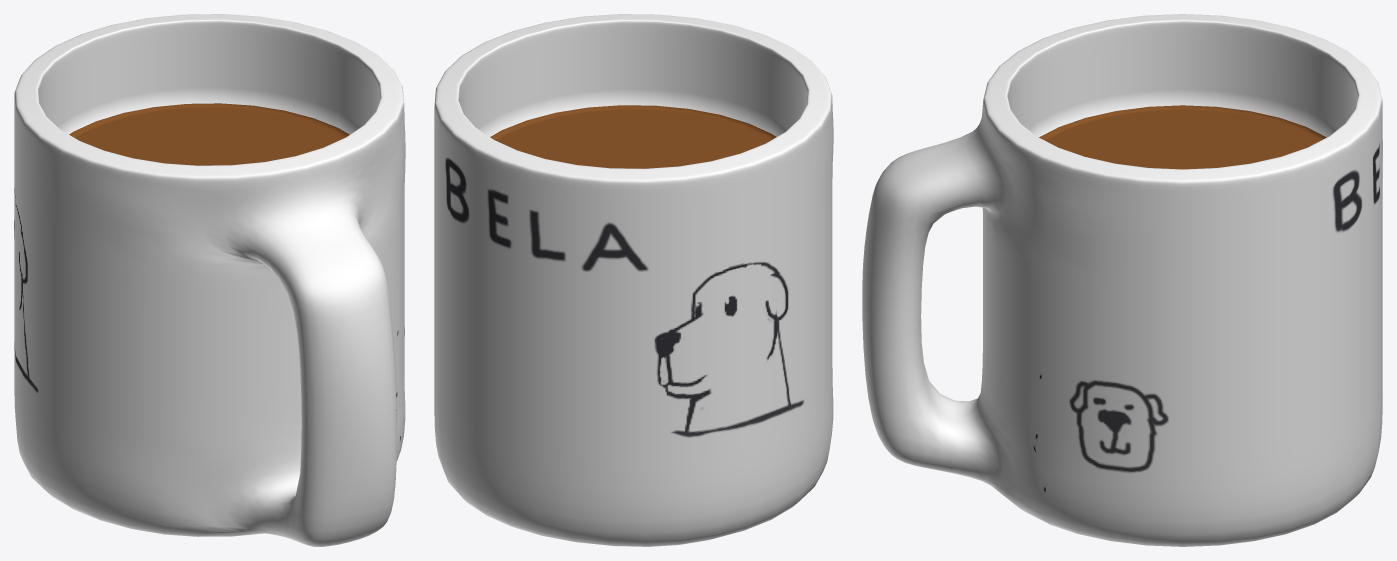
The model's file is CanecaComCafé.fbx.
3 renders of one model, left to right at view 1: azimuth 30°, elevation 25°; view 2: azimuth 150°, elevation 25°; view 3: azimuth 270°, elevation 25°, orthographic. The views are drawn at different scales.
Visible parts, largest first — view 1: Cube.119; view 2: Cube.119; view 3: Cube.119.
Boxes of the visible parts, box(x1,y1,x2,y2) form: Cube.119: box(14, 14, 405, 546); Cube.119: box(434, 14, 833, 546); Cube.119: box(862, 14, 1382, 546).
Size of the model in its own units: 15.5 by 16.52 by 20.19.
2 materials, 1 textured.
